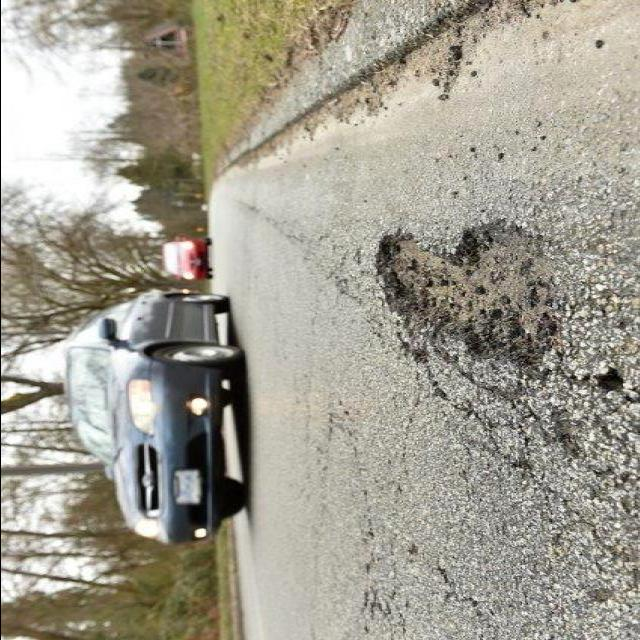jalan retak: (510, 370, 640, 536), (534, 400, 640, 592), (392, 358, 508, 488), (341, 546, 418, 636), (428, 542, 488, 626), (311, 224, 367, 308), (306, 392, 360, 476), (346, 486, 388, 552), (382, 330, 438, 378), (258, 212, 308, 252), (570, 580, 624, 608)
lubang: (375, 222, 568, 369), (564, 362, 630, 402)
